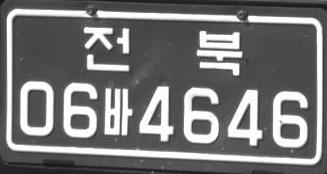0: (19, 80, 54, 136)
4: (227, 89, 263, 147), (138, 84, 173, 142)
6: (271, 89, 308, 148), (184, 86, 219, 143), (62, 82, 97, 138)
바: (103, 86, 133, 135)
전북_D: (83, 25, 242, 76)
